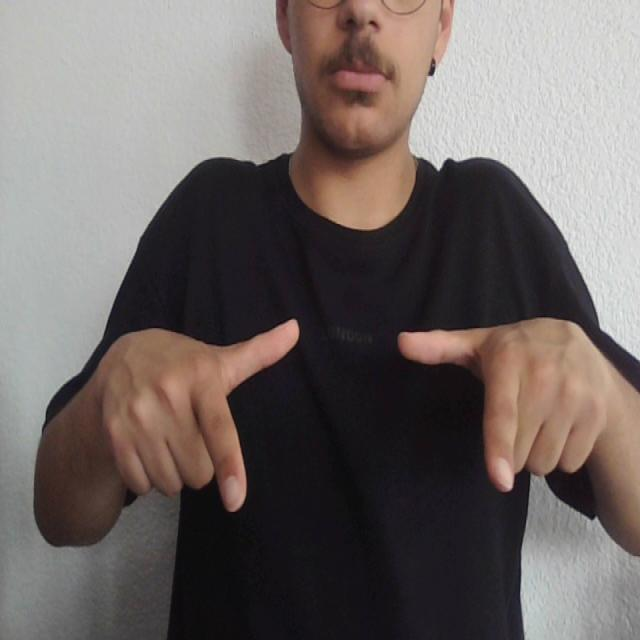Nerede: (189, 312, 526, 528)
